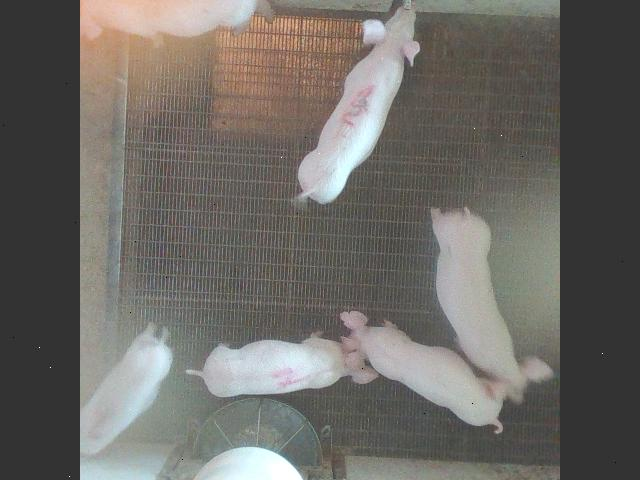pig-1: (81, 0, 260, 36)
pig-3: (299, 0, 420, 202)
pig-4: (187, 332, 379, 396)
pig-5: (81, 322, 172, 454)
